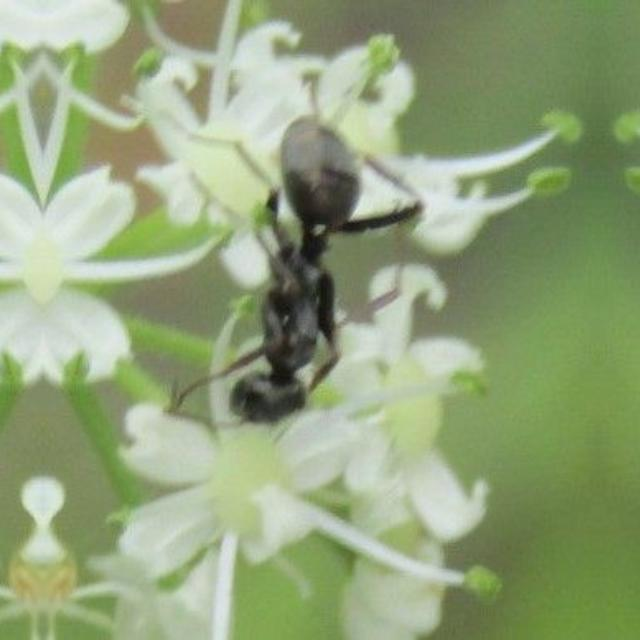Formica: (188, 90, 410, 438)
